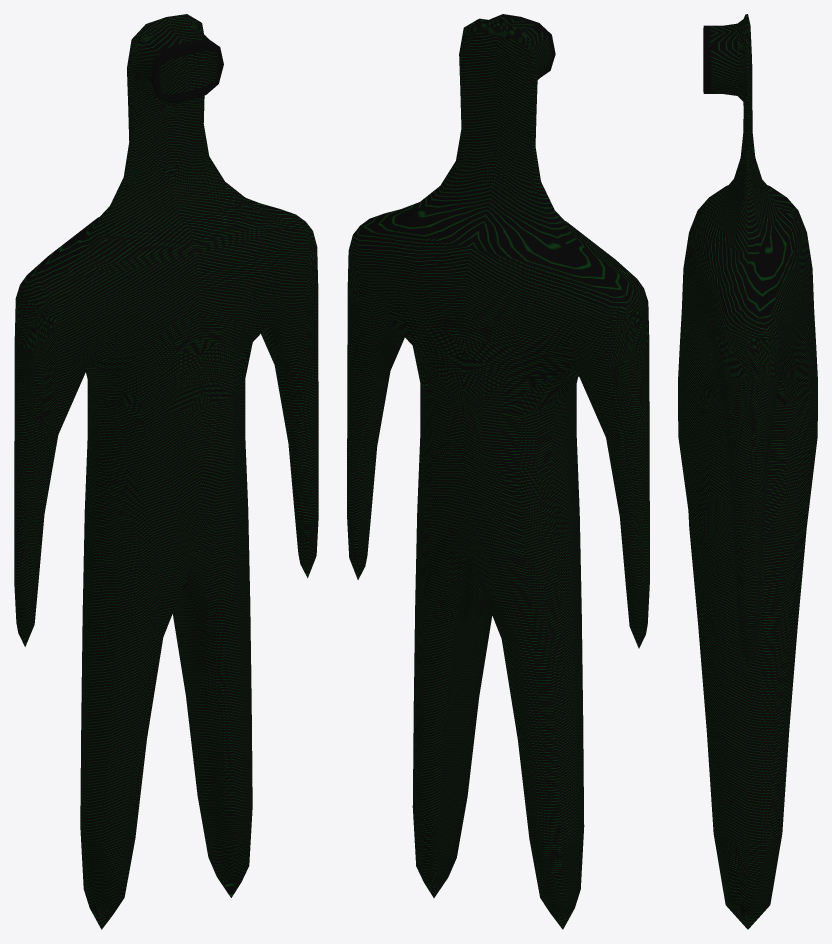
Rendered from hologram-003.glb.
The picture shows the model from 3 angles, left to right: view 1: azimuth 30°, elevation 25°; view 2: azimuth 150°, elevation 25°; view 3: azimuth 270°, elevation 25°; orthographic projection. The views are drawn at different scales.
Visible parts, largest first — view 1: Cube; view 2: Cube; view 3: Cube.
Part boxes in pixels (x1,y1,x2,y2): Cube: (14, 14, 318, 929); Cube: (347, 14, 649, 929); Cube: (678, 14, 817, 929).
Bounding box in the file's own units: 3.88 × 11.03 × 1.59.
Materials: 1 (1 with a texture image).
